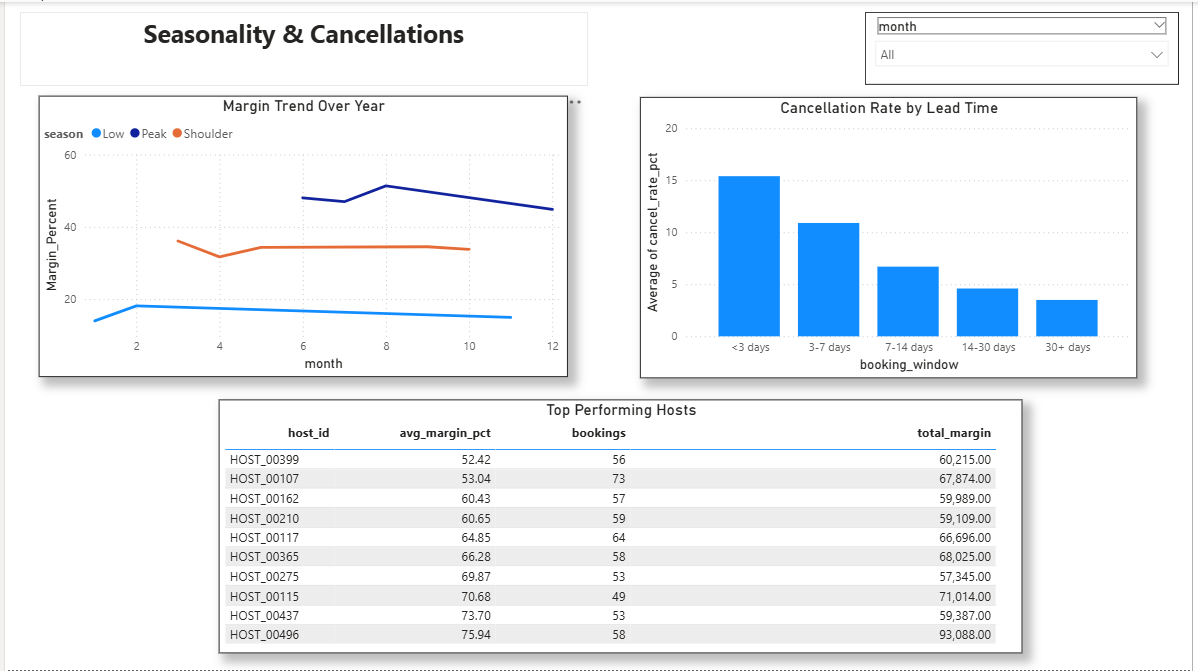

This screenshot's page, from the dashboard's own definition file:
{"tool":"powerbi","page":{"name":"Trends & Patterns","canvas":[1280,720],"ordinal":3},"visuals":[{"type":"textbox","box":[16.2,10.8,611.8,79.5],"z":0},{"type":"lineChart","title":"Margin Trend Over Year","fields":{"Category":["booking_analysis kpi_seasonality.month"],"Y":["Sum(booking_analysis kpi_seasonality.avg_margin_pct)"],"Series":["booking_analysis kpi_seasonality.season"]},"box":[36.4,101.1,570.1,303.2],"z":1000},{"type":"clusteredColumnChart","title":"Cancellation Rate by Lead Time","fields":{"Category":["booking_analysis kpi_cancellation_impact.booking_window"],"Y":["Avg(booking_analysis kpi_cancellation_impact.cancel_rate_pct)"]},"box":[684.6,102.4,536.4,303.2],"z":2000},{"type":"tableEx","title":"Top Performing Hosts","fields":{"Values":["booking_analysis kpi_top_hosts.host_id","booking_analysis kpi_top_hosts.avg_margin_pct","booking_analysis kpi_top_hosts.bookings","booking_analysis kpi_top_hosts.total_margin"]},"box":[230.4,428.6,866.5,273.6],"z":3000},{"type":"slicer","fields":{"Values":["booking_analysis kpi_seasonality.month"]},"box":[927.2,10.8,338.3,78.2],"z":3001}]}

Visuals, with their boxes in screenshot pixels (x1, y1, x2, y2), scaled from the page's 1280x720 canvas onto the 1198x671 screenshot:
textbox: <region>15, 10, 588, 84</region>
"Margin Trend Over Year" lineChart: <region>34, 94, 568, 377</region>
"Cancellation Rate by Lead Time" clusteredColumnChart: <region>641, 95, 1143, 378</region>
"Top Performing Hosts" tableEx: <region>216, 399, 1027, 654</region>
slicer - booking_analysis kpi_seasonality.month: <region>868, 10, 1184, 83</region>
